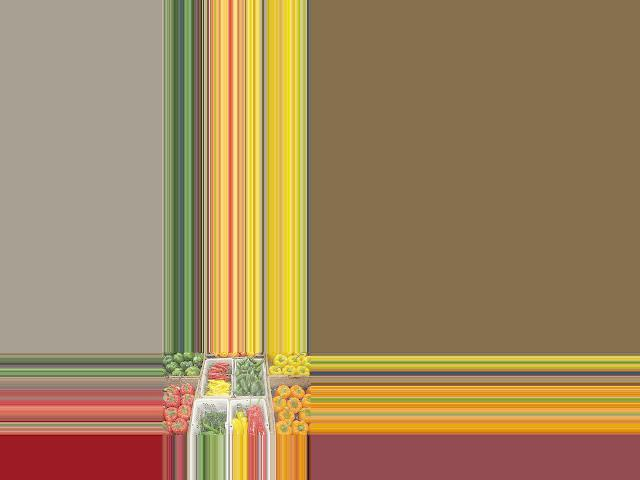bell_pepper: (170, 363, 184, 378)
